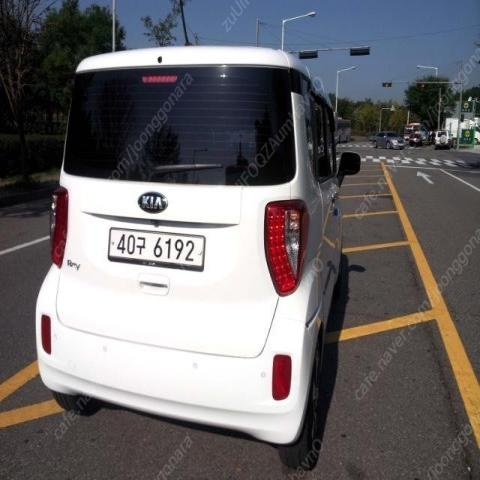LP: (102, 222, 212, 274)
